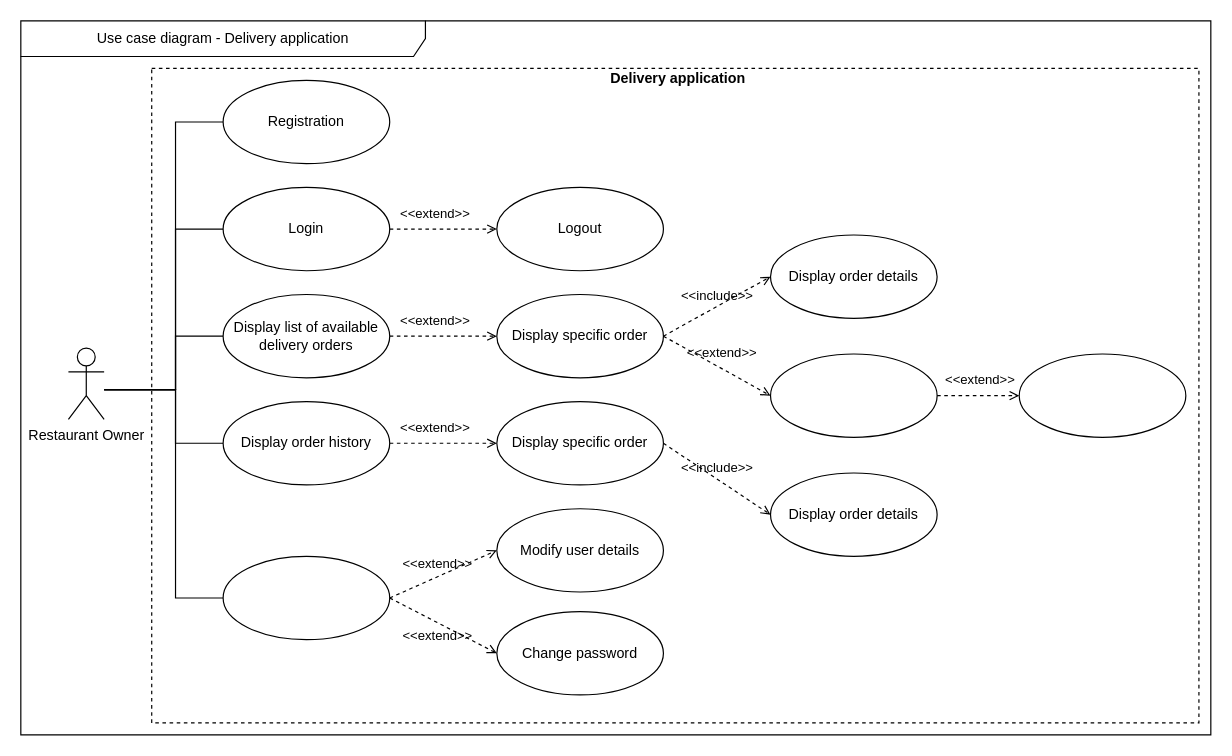
The diagram is 1232 pixels wide and 756 high, and some of its shapes have lost their labels. The centre of each missing label's shape, as x and y in pixels:
"Accept order" goes at (x=853, y=395).
"Change order state" goes at (x=1102, y=395).
"Display user profile" goes at (x=306, y=597).
